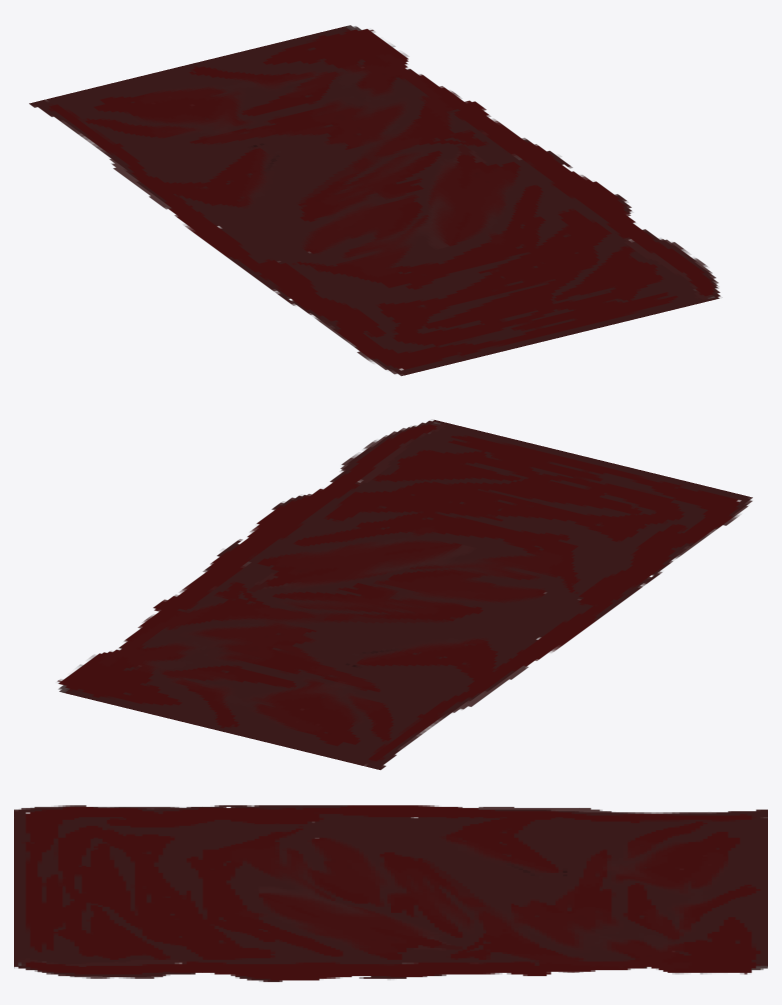
Rendered from tapete002.glb.
3 renders of one model, top to bottom at view 1: azimuth 30°, elevation 25°; view 2: azimuth 150°, elevation 25°; view 3: azimuth 270°, elevation 25°, orthographic.
Visible parts, largest first — view 1: tapetemid_geo; view 2: tapetemid_geo; view 3: tapetemid_geo.
Boxes of the visible parts, left/top/right/bottom form: tapetemid_geo: left=29, top=25, right=720, bottom=375; tapetemid_geo: left=57, top=420, right=752, bottom=769; tapetemid_geo: left=14, top=805, right=767, bottom=981.
Bounding box in the file's own units: 2.59 × 1.11e-15 × 4.37.
1 material, 1 textured.
